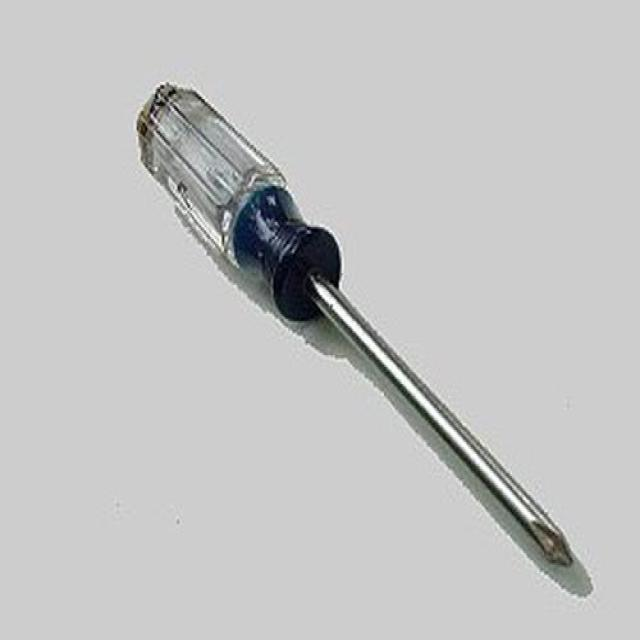screw driver: (114, 60, 616, 608)
